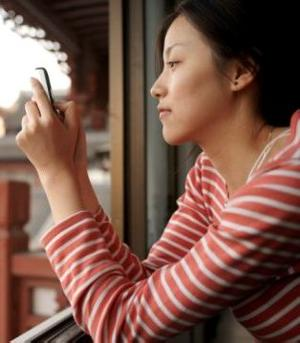person: (17, 2, 300, 342)
